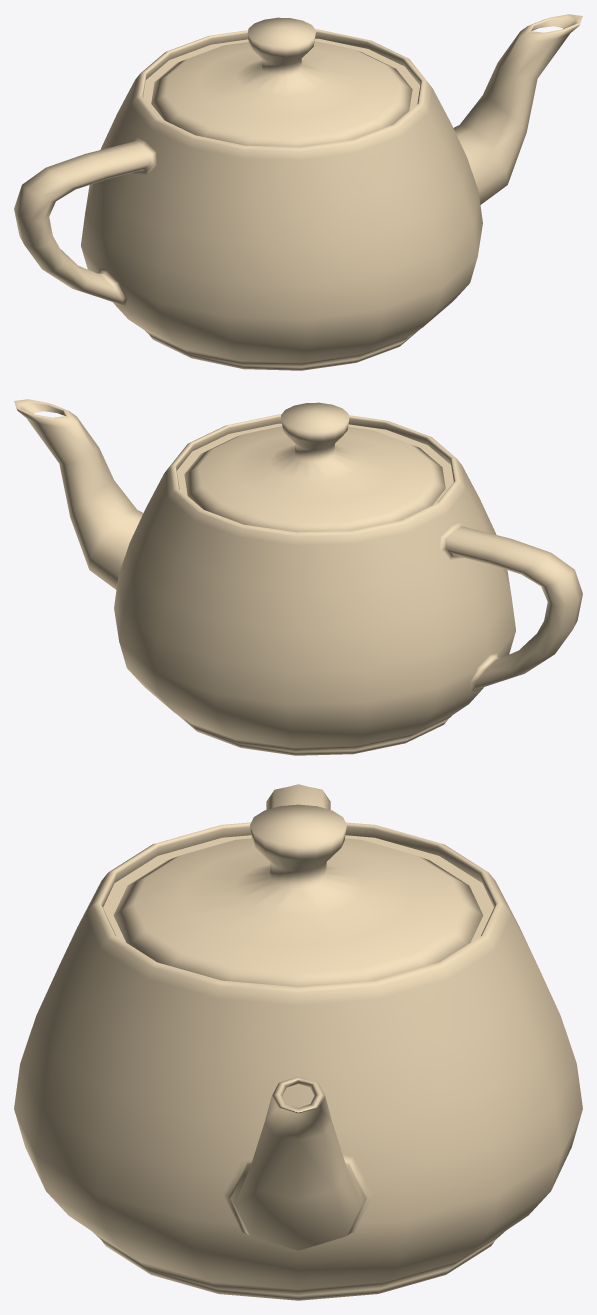
Rendered from utah_teapot_med.glb.
The picture shows the model from 3 angles, top to bottom: view 1: azimuth 30°, elevation 25°; view 2: azimuth 150°, elevation 25°; view 3: azimuth 270°, elevation 25°; orthographic projection. The views are drawn at different scales.
Parts seen in each view (by area): view 1: Utah Teapot; view 2: Utah Teapot; view 3: Utah Teapot.
Boxes of the visible parts, left/top/right/bottom form: Utah Teapot: left=14, top=14, right=582, bottom=370; Utah Teapot: left=14, top=399, right=582, bottom=755; Utah Teapot: left=14, top=784, right=582, bottom=1300.
Size of the model in its own units: 6.43 by 3.15 by 4.
